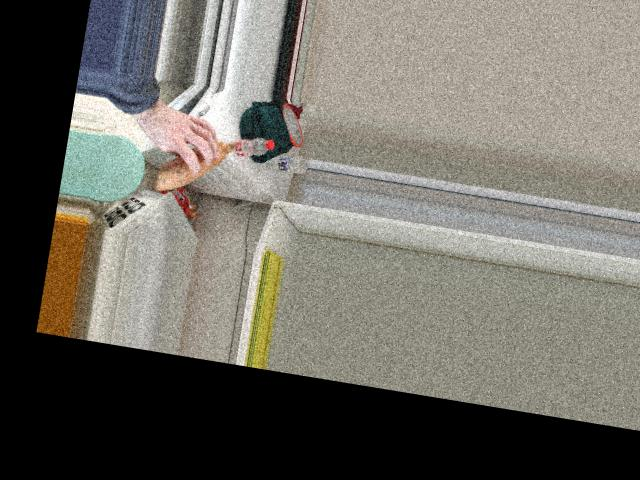sweet_potato: (163, 117, 234, 198)
